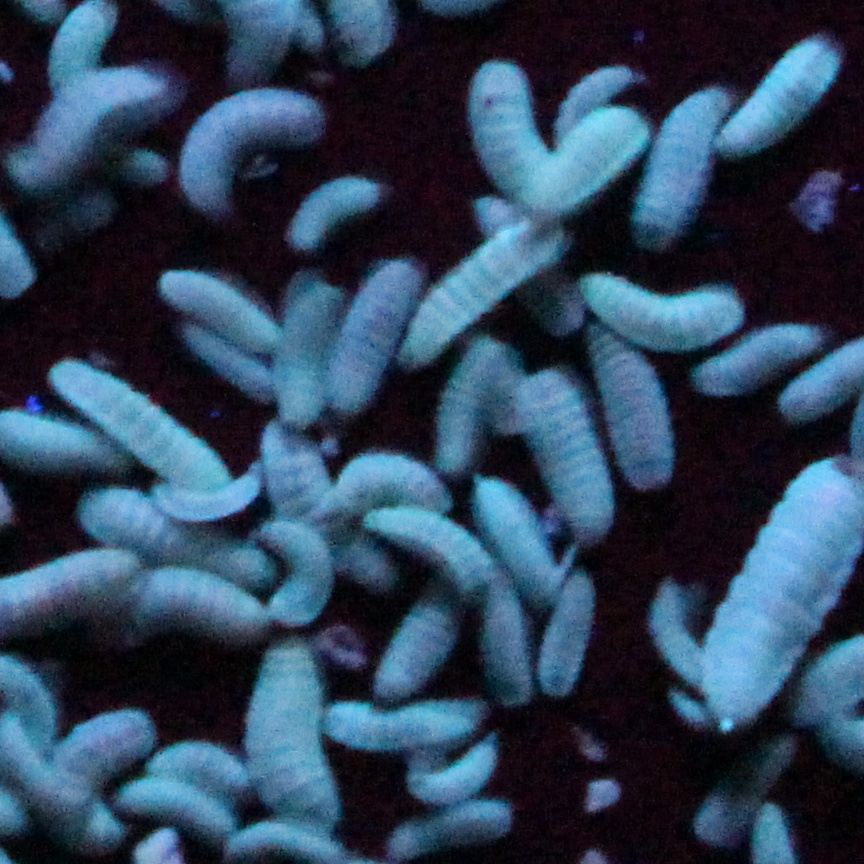larve: (706, 485, 855, 728), (63, 366, 222, 499), (416, 228, 542, 346), (23, 70, 147, 188), (258, 654, 344, 823), (192, 98, 311, 202), (88, 502, 250, 574), (539, 379, 617, 528), (330, 264, 417, 397), (639, 99, 722, 238), (542, 120, 647, 221), (739, 41, 827, 148), (75, 717, 148, 840), (265, 435, 335, 562), (140, 574, 267, 640), (381, 595, 457, 703), (608, 336, 663, 480), (322, 700, 481, 748), (476, 58, 535, 187), (386, 512, 489, 585), (276, 287, 327, 430), (162, 269, 257, 343), (486, 482, 553, 585), (706, 325, 812, 389), (701, 749, 781, 833), (599, 284, 740, 331), (452, 340, 508, 458), (391, 810, 514, 859), (491, 577, 540, 697), (286, 179, 376, 244), (334, 458, 442, 508), (544, 569, 591, 680), (14, 743, 81, 817), (188, 331, 265, 395), (565, 67, 637, 135), (157, 748, 252, 799), (271, 531, 321, 623), (422, 746, 499, 805), (130, 789, 226, 836), (665, 595, 704, 680), (162, 489, 247, 521)
